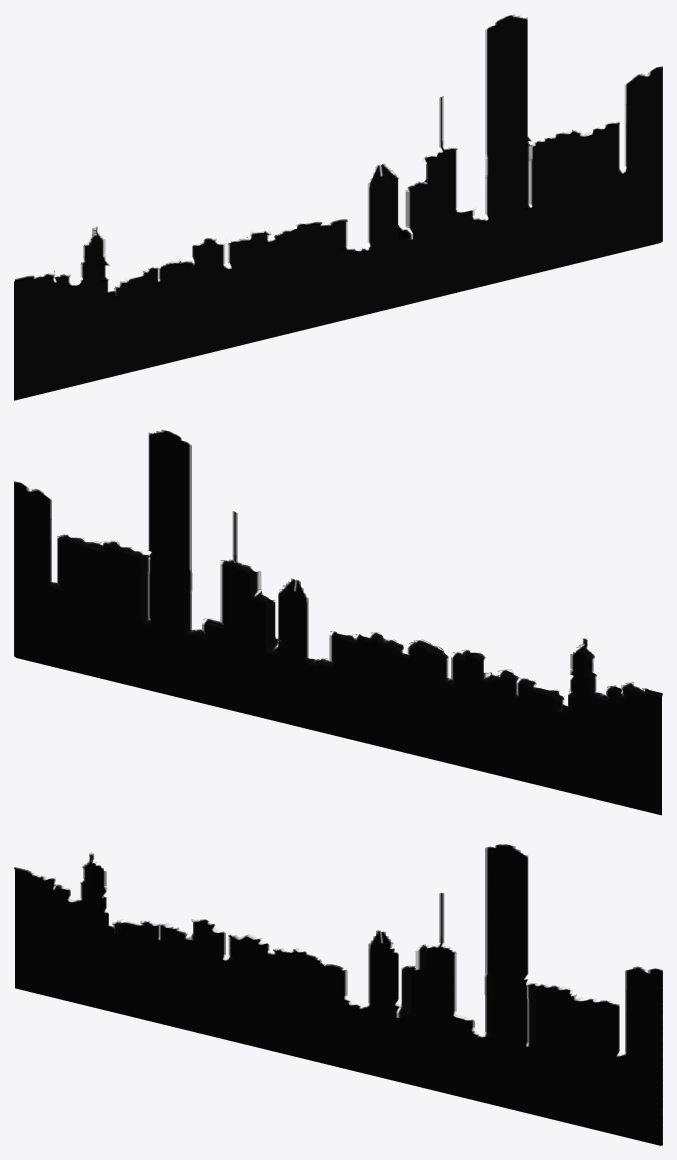
The model's file is city.obj.
The picture shows the model from 3 angles, top to bottom: view 1: azimuth 30°, elevation 25°; view 2: azimuth 150°, elevation 25°; view 3: azimuth 330°, elevation 25°; orthographic projection.
Bounding box in the file's own units: 4.22 × 1.64 × 0.0868.
1 material, 1 textured.
